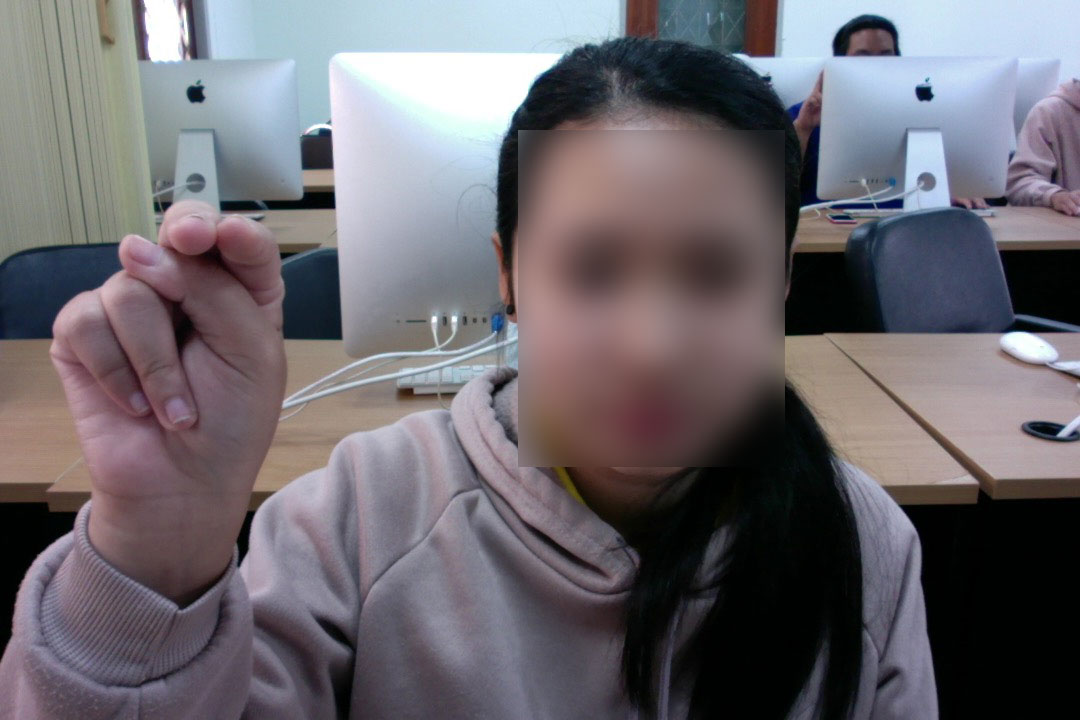nor: (44, 194, 297, 543)
